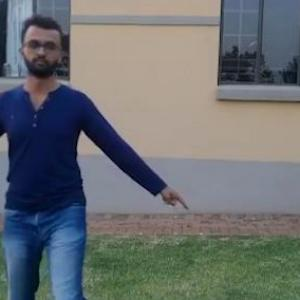land: (1, 40, 181, 299)
